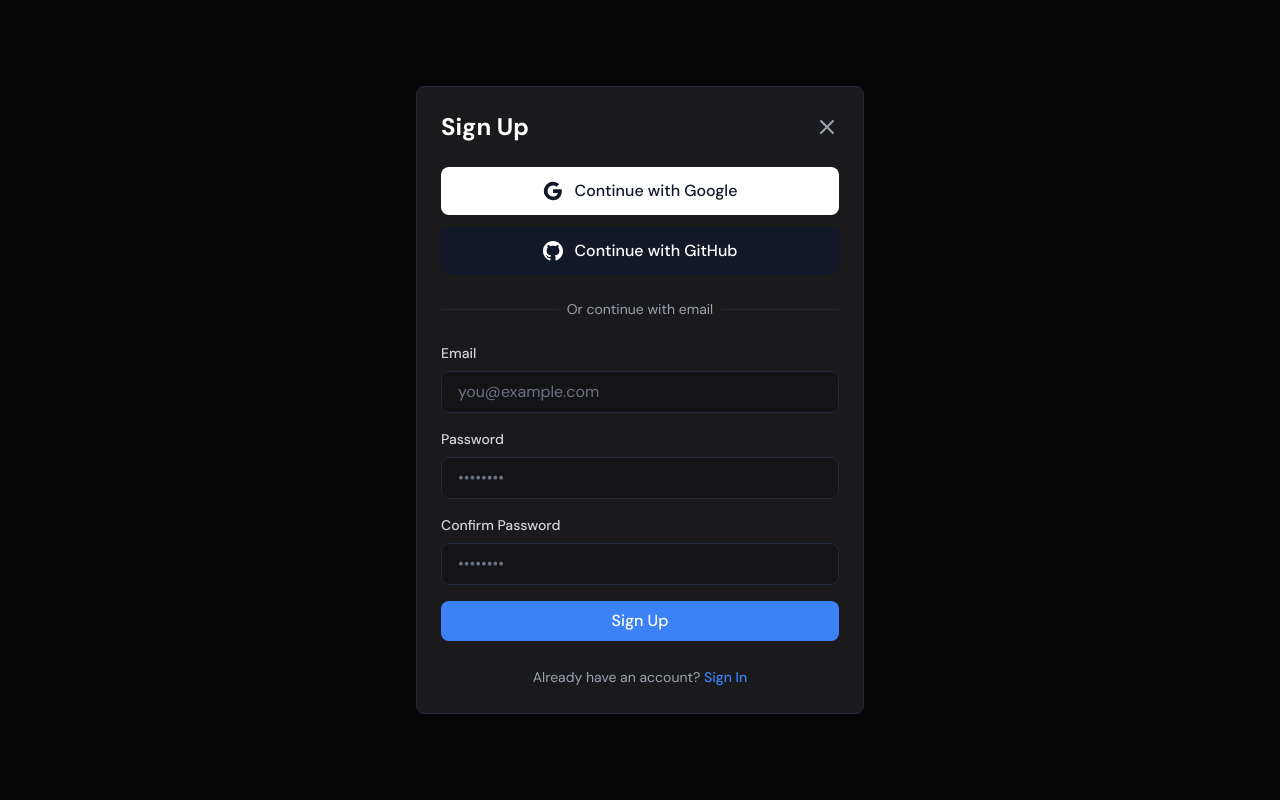
Scenario: AuthModal › Sign Up Form › validates password length
The width and height of the screenshot is (1280, 800).
Type "test@example.com" into the field labelled "Email" at (640, 392), box [441,371,839,413]
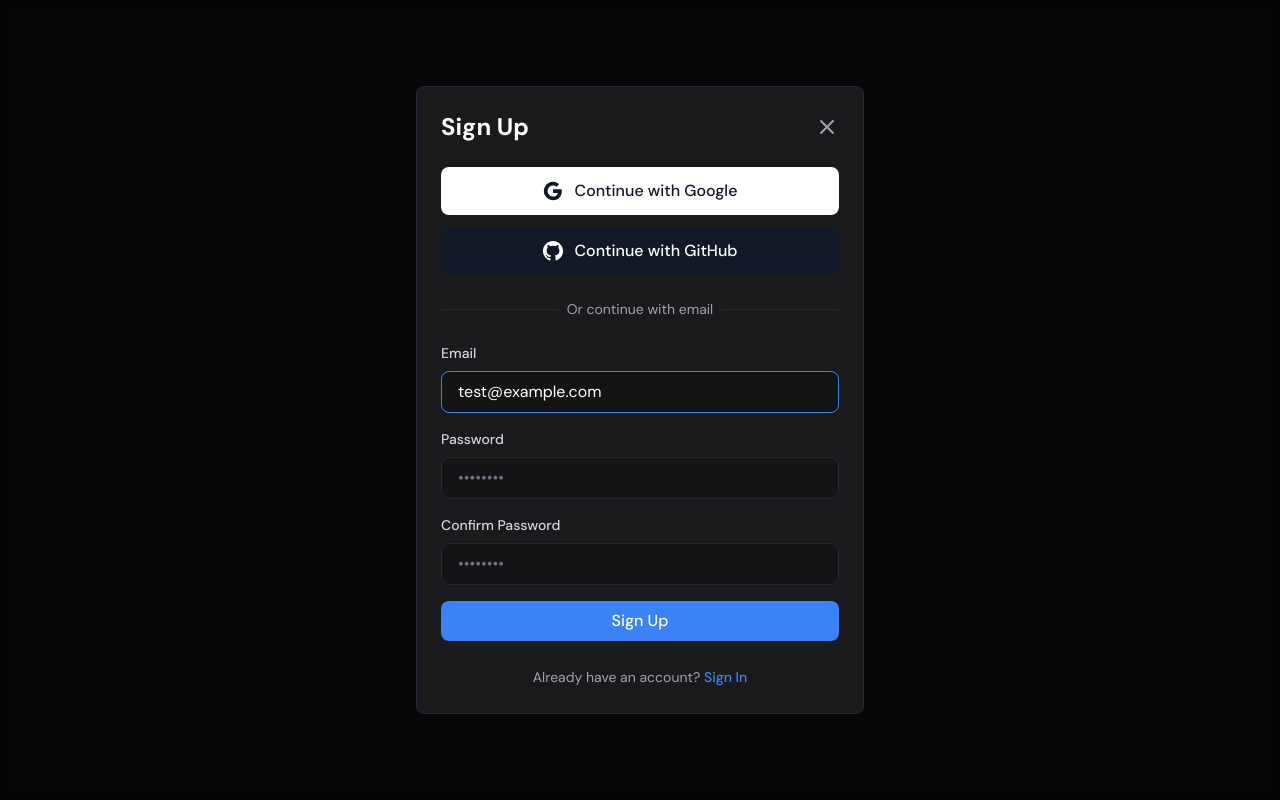
Type "12345" into the password field labelled "Password" at (640, 478), box [441,457,839,499]
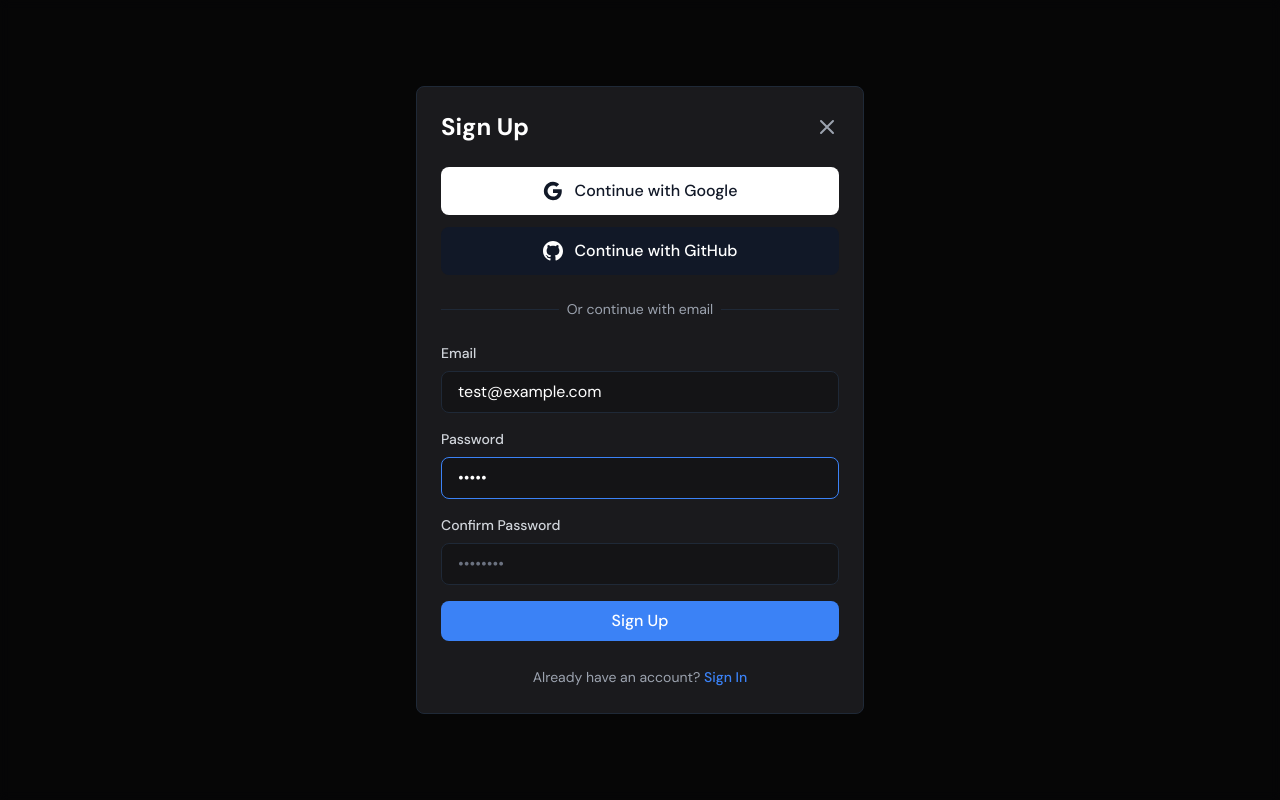
Type "12345" into the password field labelled "Confirm Password" at (640, 564), box [441,543,839,585]
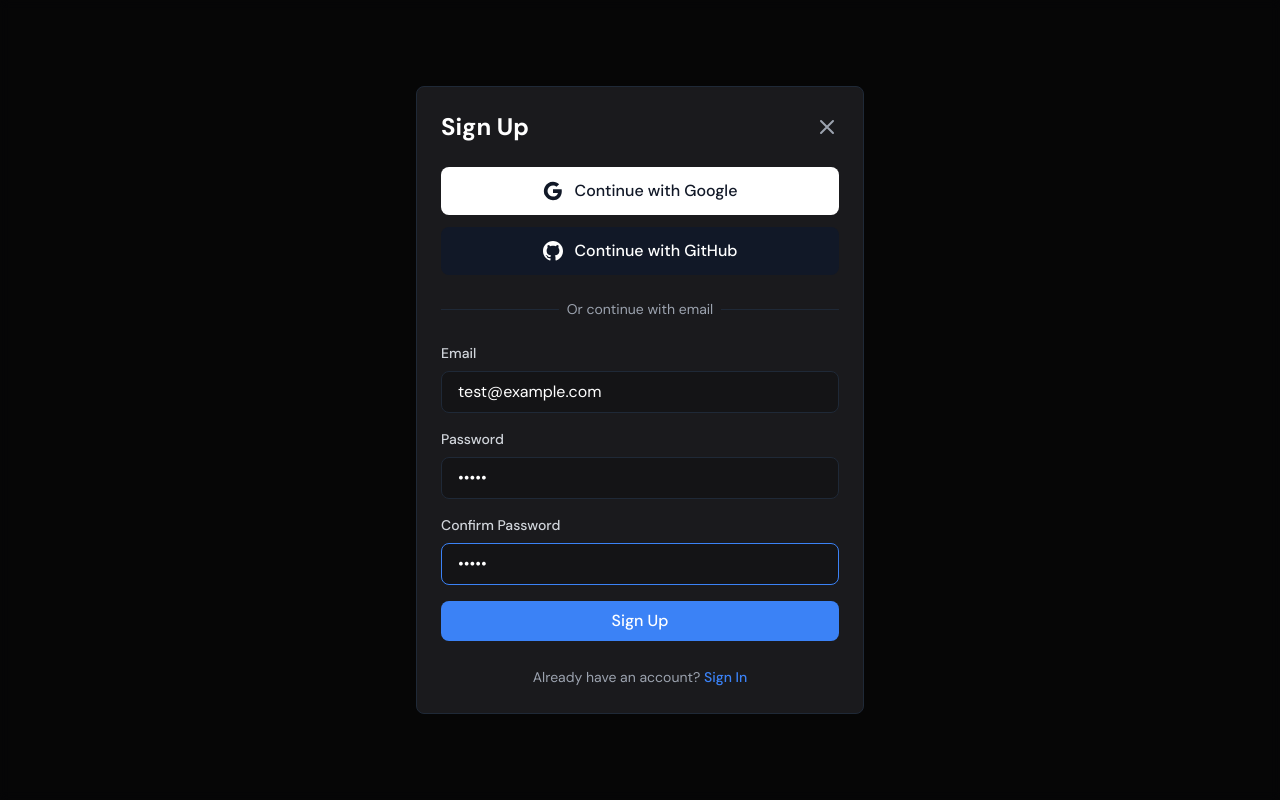
Click the button "Sign Up" at (640, 621), box [441,601,839,641]
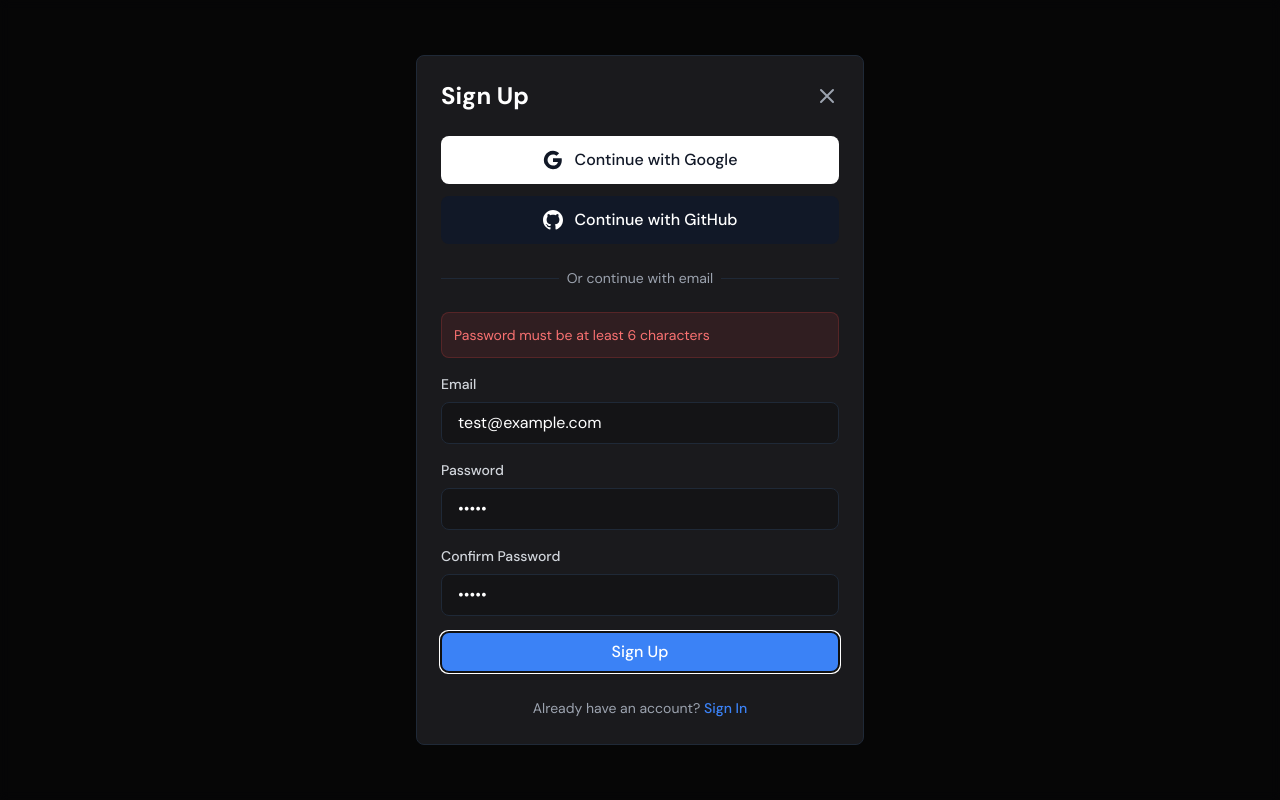
Result: the text "Password must be at least 6 characters" is shown at [441,312,839,358]
